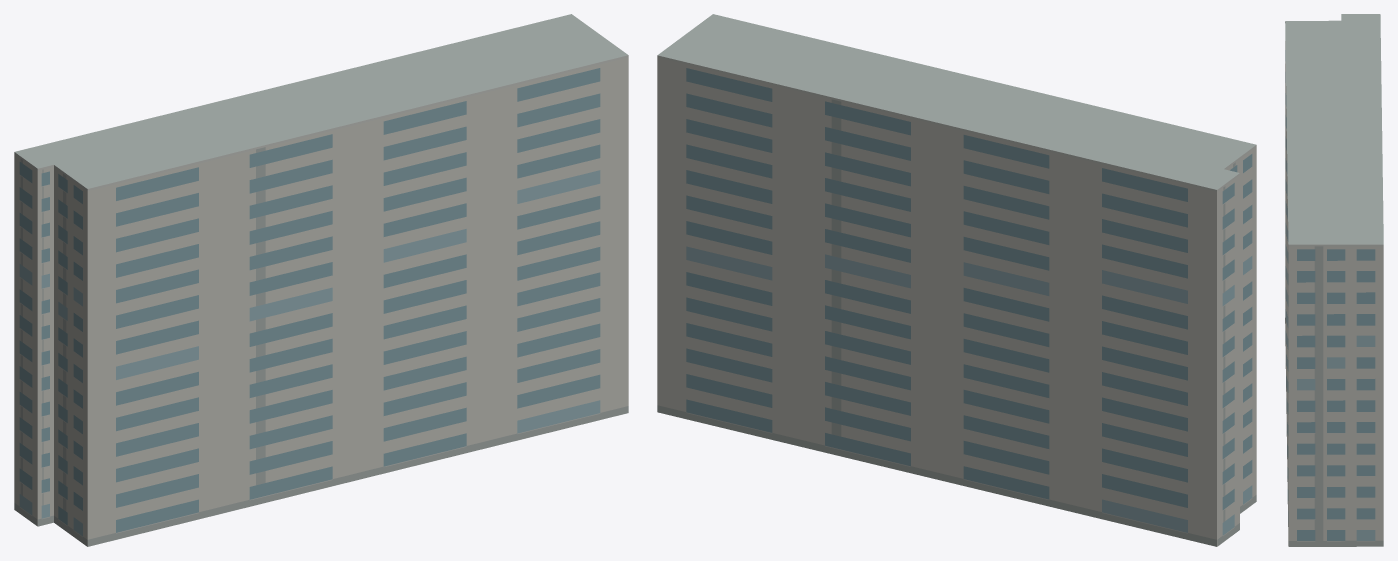
The model's file is residential-772ab084-2b61-4f10-b689-4359713cb18e.glb.
The picture shows the model from 3 angles, left to right: view 1: azimuth 30°, elevation 25°; view 2: azimuth 150°, elevation 25°; view 3: azimuth 270°, elevation 25°; orthographic projection. The views are drawn at different scales.
Parts seen in each view (by area): view 1: residential-772ab084-2b61-4f10-b689-4359713cb18e.tmp; view 2: residential-772ab084-2b61-4f10-b689-4359713cb18e.tmp; view 3: residential-772ab084-2b61-4f10-b689-4359713cb18e.tmp.
Part boxes in pixels (<box>): residential-772ab084-2b61-4f10-b689-4359713cb18e.tmp: <box>14,14,628,546</box>; residential-772ab084-2b61-4f10-b689-4359713cb18e.tmp: <box>657,14,1256,546</box>; residential-772ab084-2b61-4f10-b689-4359713cb18e.tmp: <box>1285,14,1383,546</box>.
Size of the model in its own units: 69.91 by 42.7 by 12.64.
